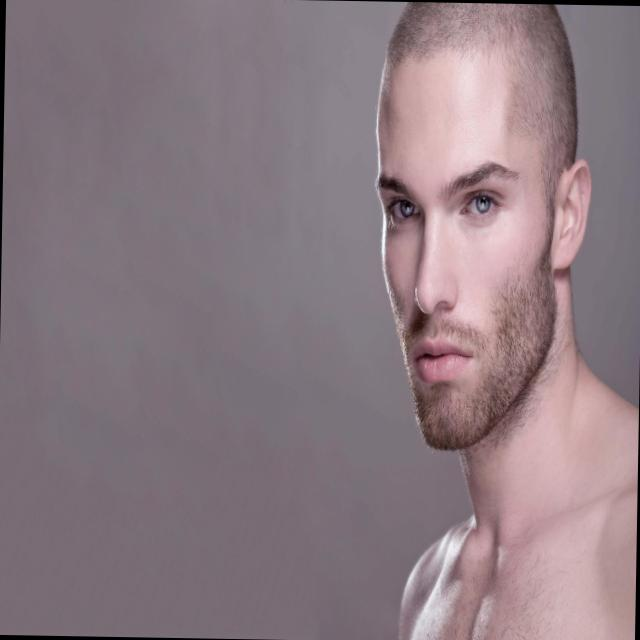face: (362, 4, 596, 458)
